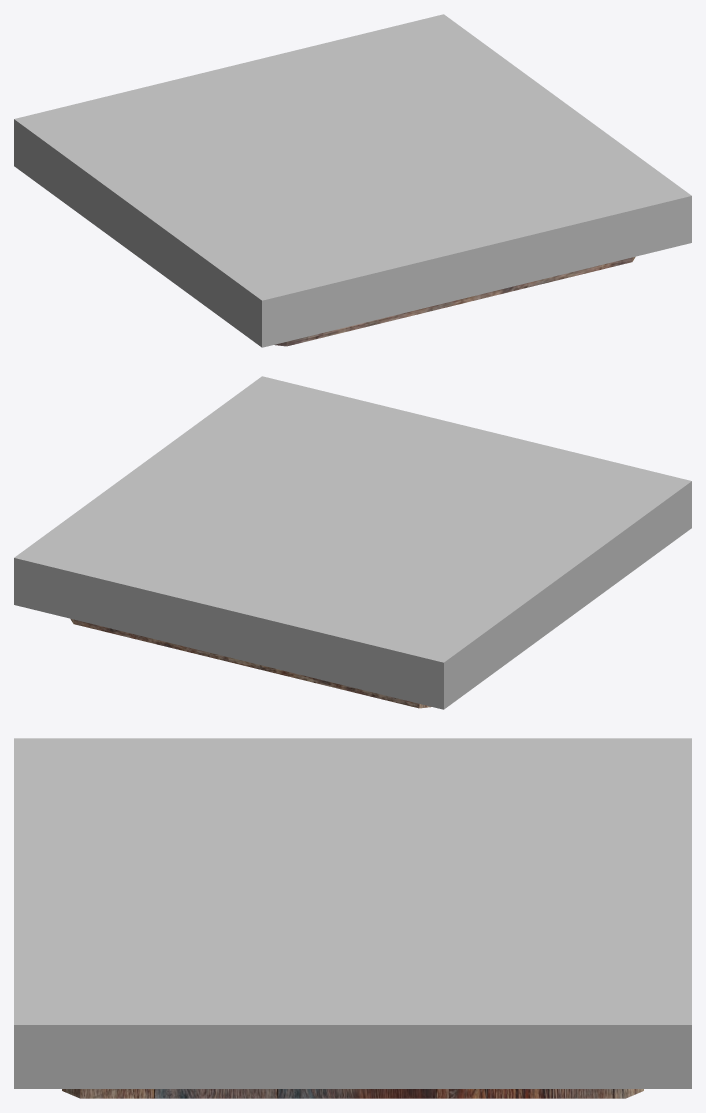
File: trapdoor.fbx
The picture shows the model from 3 angles, top to bottom: view 1: azimuth 30°, elevation 25°; view 2: azimuth 150°, elevation 25°; view 3: azimuth 270°, elevation 25°; orthographic projection. The views are drawn at different scales.
Parts seen in each view (by area): view 1: Trapdoor; view 2: Trapdoor; view 3: Trapdoor.
Boxes of the visible parts, <box> form: Trapdoor: <box>14,14,691,347</box>; Trapdoor: <box>14,376,691,709</box>; Trapdoor: <box>14,738,691,1098</box>.
Size of the model in its own units: 155 by 31.5 by 155.
